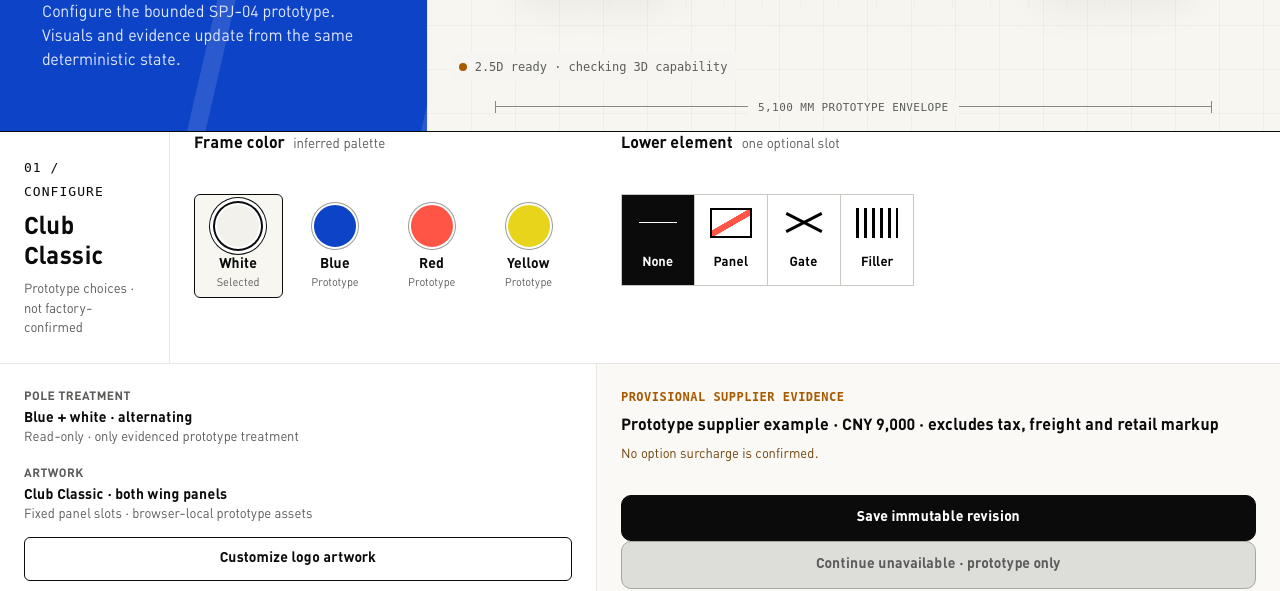
Scenario: SPJ-04 studio interface › leaves 2.5D and current selections intact when the 3D upgrade fails
(page scrolled)
Click the radio button with aria-label "Blue frame".
click(335, 246)  # box [291,194,379,298]
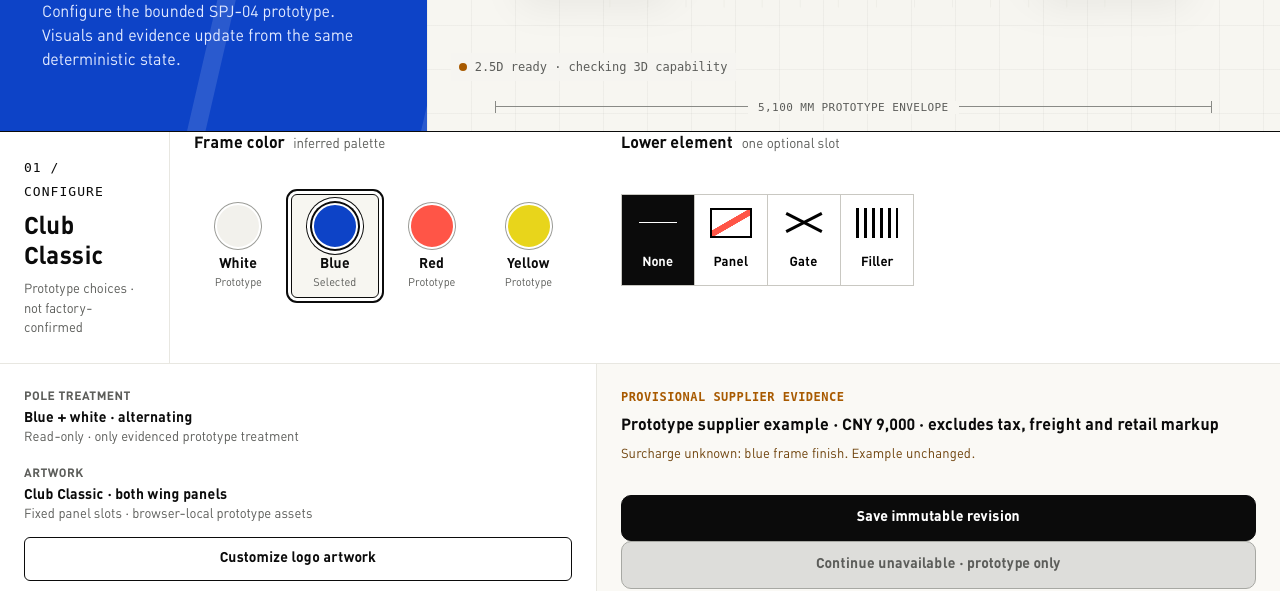
Click the radio button labelled "Filler".
click(877, 240)  # box [841,195,914,285]
(page scrolled)
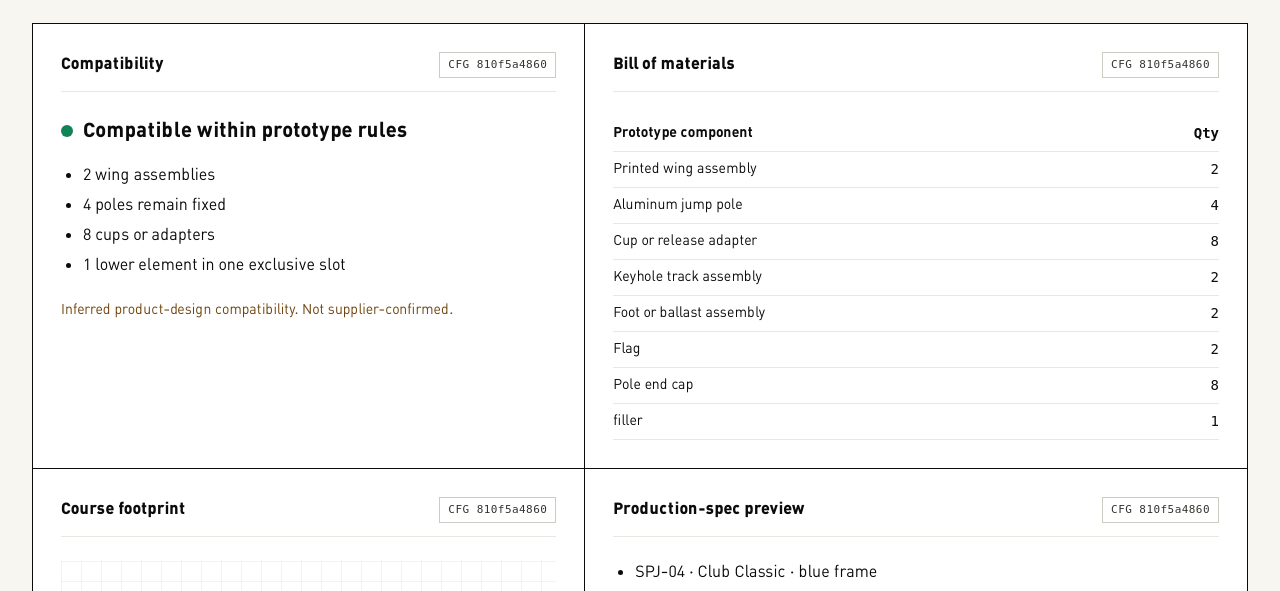
Expected: the element with test id "bom-summary" shows "filler", [613,411,642,431]
